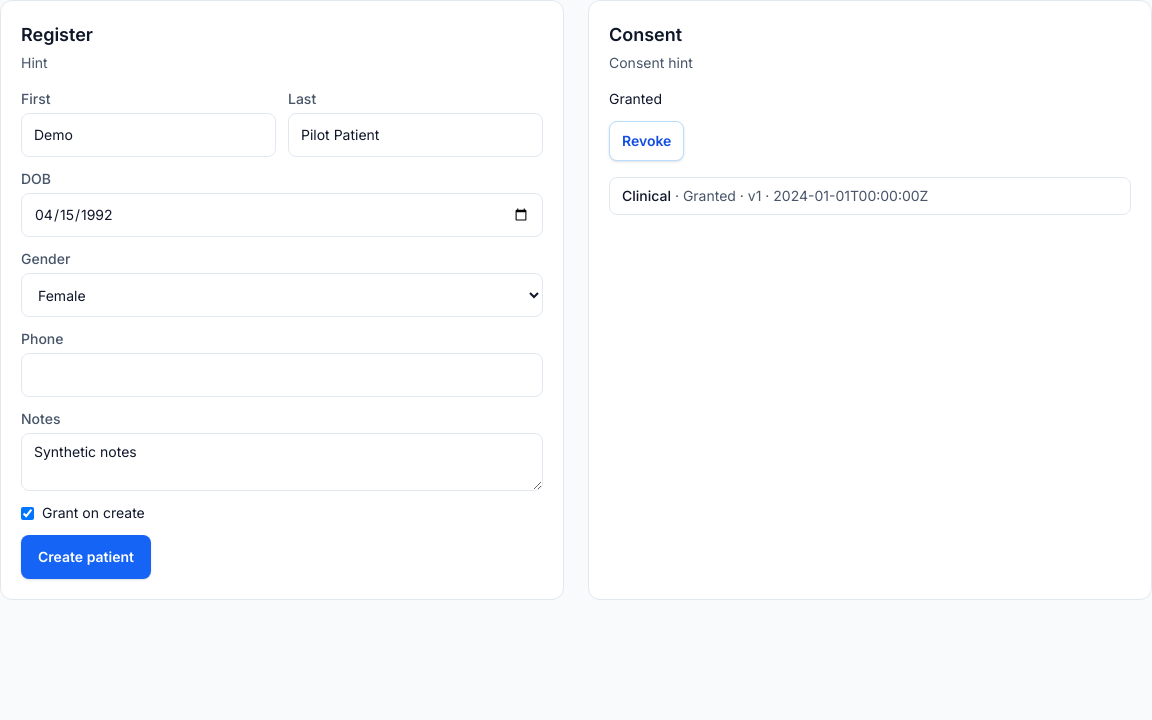
Test case: PatientOnboardingPanel › revokes active consent and refetches list
What coordinates should you click on to do the following:
click the button "Revoke"
I would click on:
 (647, 141)
Its box is top-left (609, 121), bottom-right (684, 161).
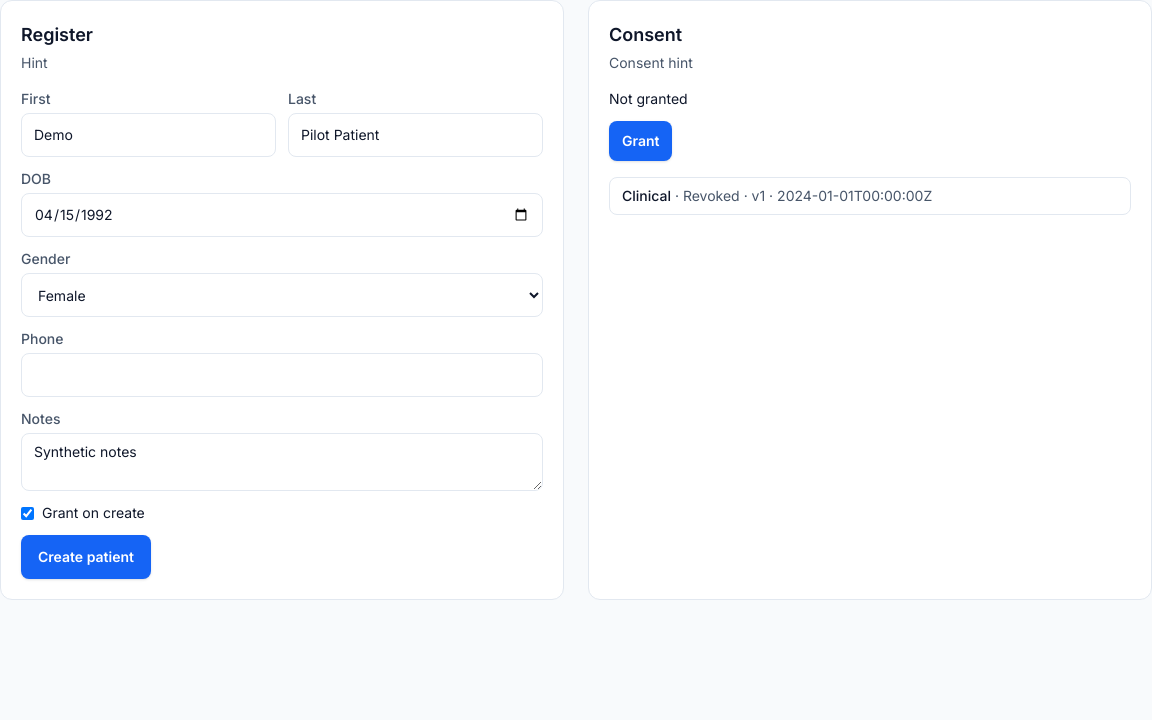
Now the text "Not granted" is shown, box top-left (609, 90), bottom-right (688, 107)
Now the button "Grant" is shown, box top-left (609, 121), bottom-right (672, 161)
